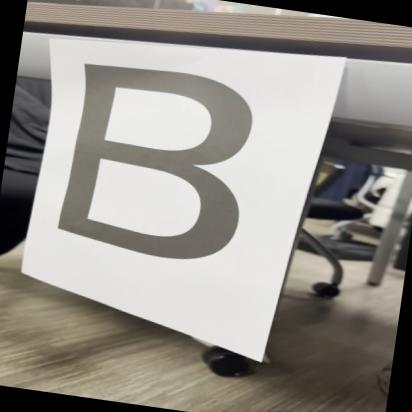seat: (29, 41, 281, 280)
